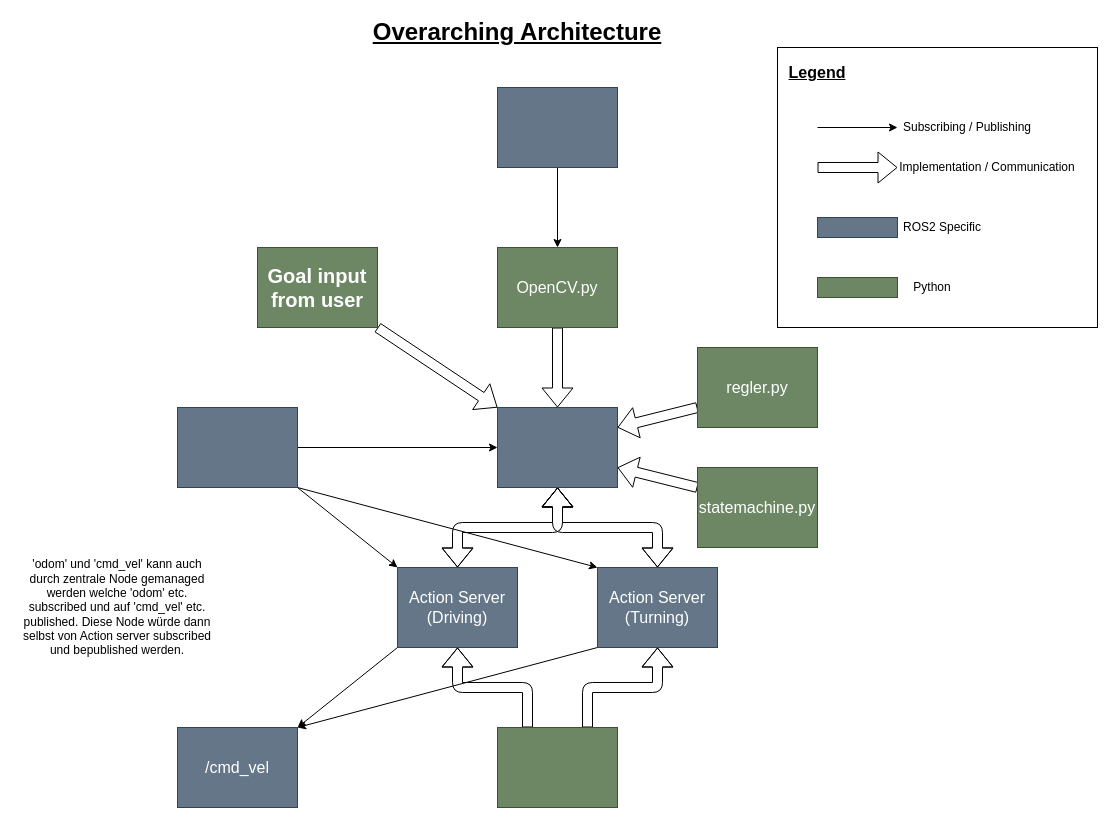
Some shapes in this 1115 by 825 pixel diagram are drawn without their labels. The centre of each missing label's shape, as x and y in pixels:
/Camera: the point at 557,127
/odom: the point at 237,447
Action Server Handler (Action Client): the point at 557,447
moving_logic.py: the point at 557,767
